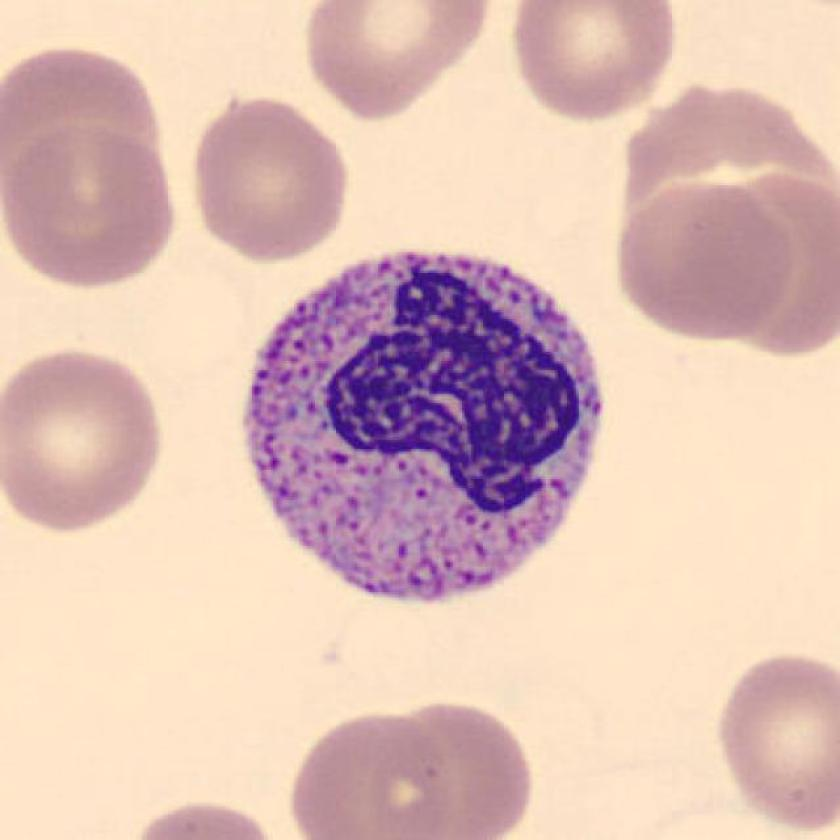neutrophil: (248, 248, 601, 596)
